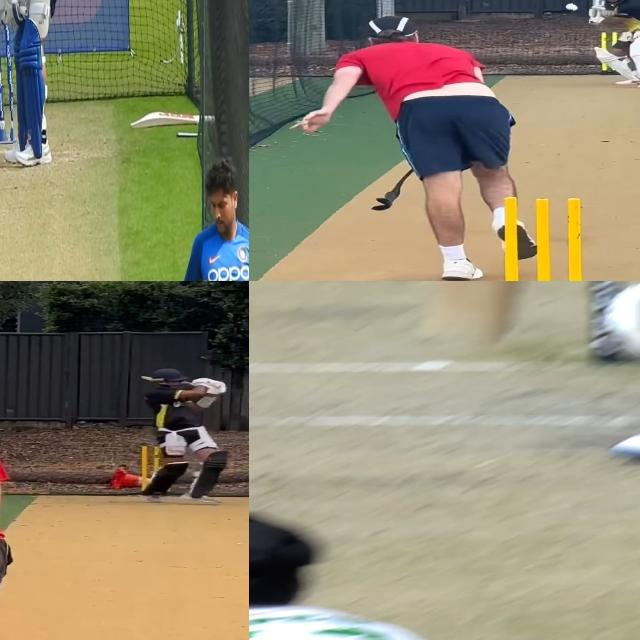Cricket ball: (563, 2, 580, 12)
Stumps: (493, 196, 598, 281), (0, 14, 13, 144)
